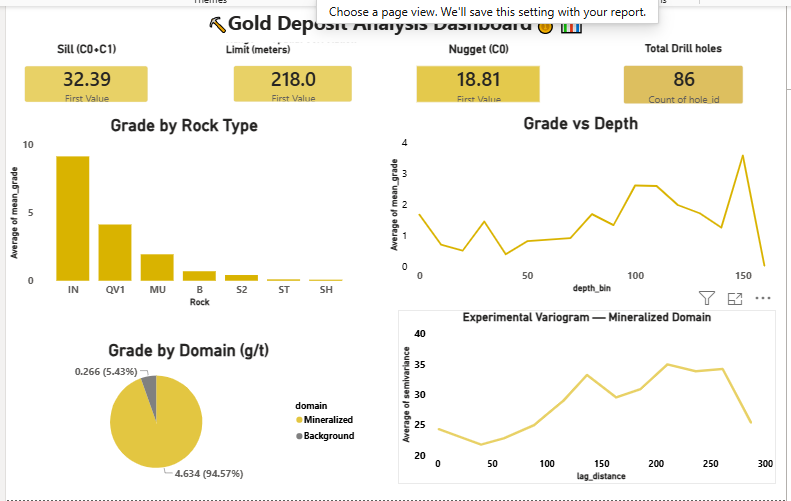

What the dashboard file says about the page in this screenshot:
{"tool":"powerbi","page":{"name":"Page 1","canvas":[1280,810],"ordinal":0},"visuals":[{"type":"columnChart","title":"Grade by Rock Type","fields":{"Category":["grade_by_rock.rock"],"Y":["Avg(grade_by_rock.mean_grade)"]},"box":[0,178.9,585.8,320],"z":0},{"type":"lineChart","title":"Grade vs Depth","fields":{"Category":["grade_by_depth.depth_bin"],"Y":["Avg(grade_by_depth.mean_grade)"]},"box":[623.6,175.6,640,300.3],"z":1000},{"type":"pieChart","title":"Grade by Domain (g/t)","fields":{"Category":["domain_summary.domain"],"Y":["Avg(domain_summary.mean_grade)"]},"box":[13.1,548.1,572.7,236.3],"z":2000},{"type":"lineChart","title":"Experimental Variogram — Mineralized Domain","fields":{"Category":["variogram_data.lag_distance"],"Y":["Avg(variogram_data.semivariance)"]},"box":[643.3,498.9,620.3,285.5],"z":3000},{"type":"cardVisual","title":"Nugget (C0)","fields":{"Data":["Min(model_parameters.Value)"]},"box":[656.4,59.1,237.9,116.5],"z":4000},{"type":"cardVisual","title":"Sill (C0+C1)","fields":{"Data":["Min(model_parameters.Value)"]},"box":[13.1,59.1,237.9,116.5],"z":5000},{"type":"cardVisual","title":"Range — Spatial Correlation Limit (meters)","fields":{"Data":["Min(model_parameters.Value)"]},"box":[356.1,42.7,229.7,132.9],"z":6000},{"type":"cardVisual","title":"Total Drill holes","fields":{"Data":["Count(composites.hole_id)"]},"box":[996.1,59.1,231.4,119.8],"z":7000},{"type":"textbox","box":[0,0,1280,59.9],"z":8000}]}

Visuals, with their boxes on the page's 1280x810 design canvas (x1, y1, x2, y2). These are canvas units, not pixel positions in the 791x501 screenshot, which may show the page scaled, cropped or inside an application window:
"Grade by Rock Type" columnChart: pyautogui.locateOnScreen(0, 179, 586, 499)
"Grade vs Depth" lineChart: pyautogui.locateOnScreen(624, 176, 1264, 476)
"Grade by Domain (g/t)" pieChart: pyautogui.locateOnScreen(13, 548, 586, 784)
"Experimental Variogram — Mineralized Domain" lineChart: pyautogui.locateOnScreen(643, 499, 1264, 784)
"Nugget (C0)" cardVisual: pyautogui.locateOnScreen(656, 59, 894, 176)
"Sill (C0+C1)" cardVisual: pyautogui.locateOnScreen(13, 59, 251, 176)
"Range — Spatial Correlation Limit (meters)" cardVisual: pyautogui.locateOnScreen(356, 43, 586, 176)
"Total Drill holes" cardVisual: pyautogui.locateOnScreen(996, 59, 1228, 179)
textbox: pyautogui.locateOnScreen(0, 0, 1280, 60)
